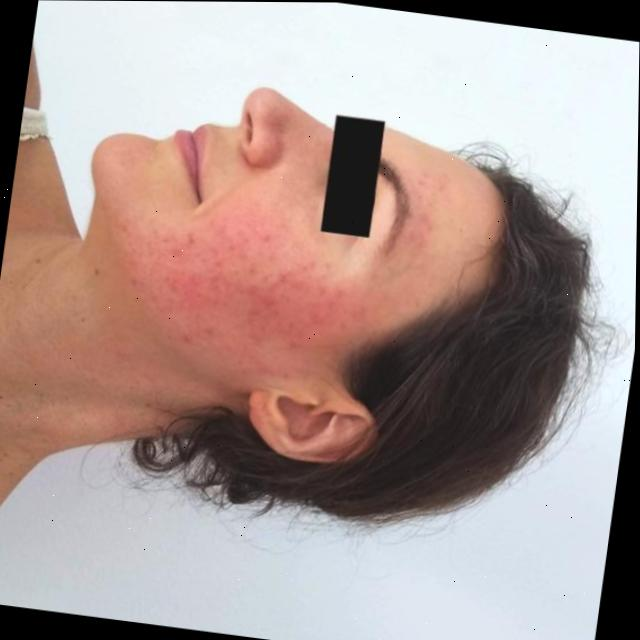Rosacea: (126, 212, 356, 363)
